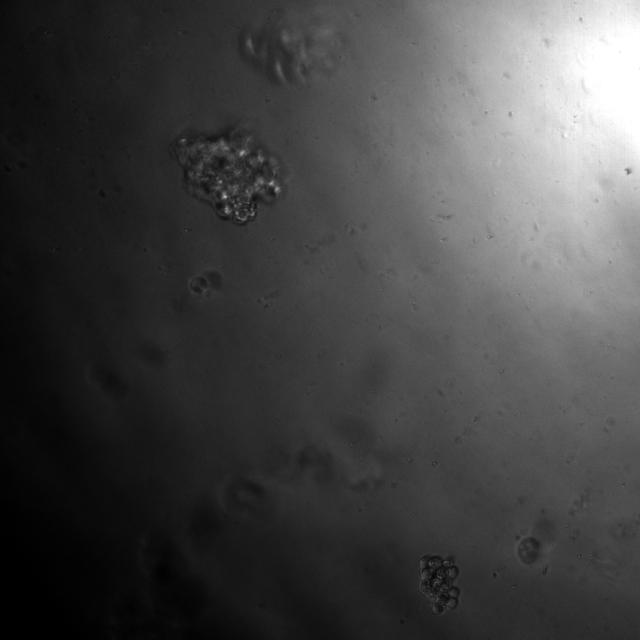organoid: (173, 126, 286, 224), (239, 6, 345, 86), (419, 555, 459, 614), (517, 537, 541, 564), (189, 276, 208, 294)
